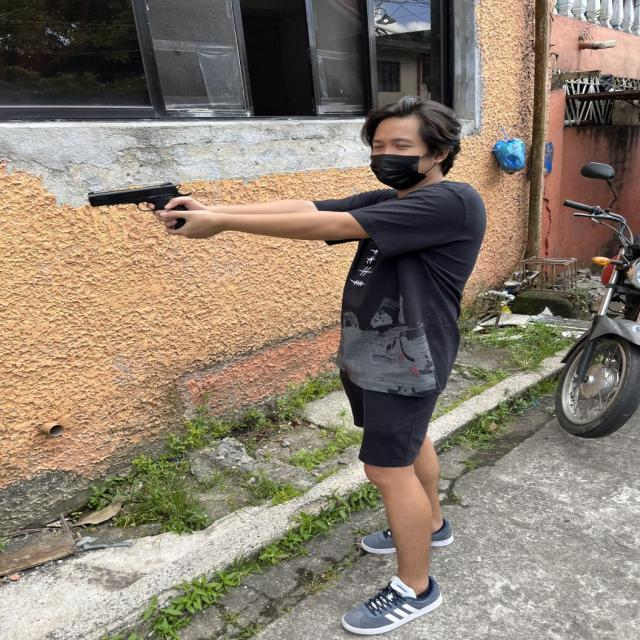pistol: (77, 167, 201, 239)
